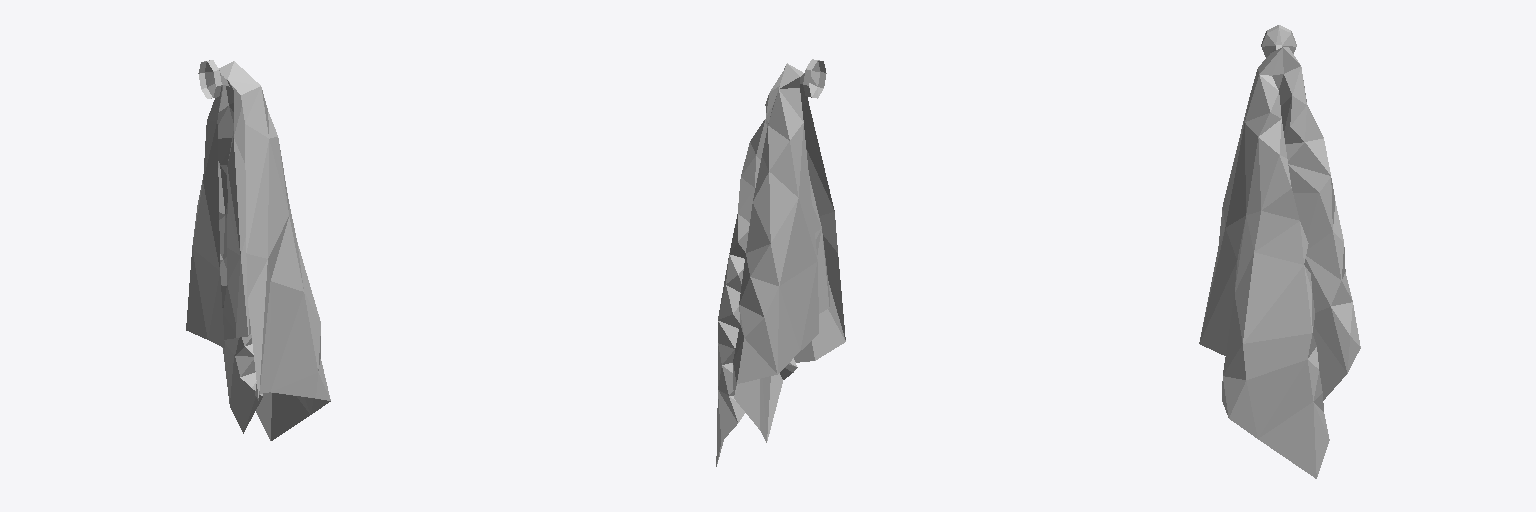
File: Towel_b.obj
3 views of the same model, side by side, from view 1: azimuth 30°, elevation 25°; view 2: azimuth 150°, elevation 25°; view 3: azimuth 270°, elevation 25° (orthographic).
Visible parts, largest first — view 1: Towel_b_Plane.016; view 2: Towel_b_Plane.016; view 3: Towel_b_Plane.016.
Boxes of the visible parts, x1,y1,x2,y2 form: Towel_b_Plane.016: [186, 60, 330, 440]; Towel_b_Plane.016: [716, 59, 845, 466]; Towel_b_Plane.016: [1199, 25, 1360, 478].
Size of the model in its own units: 0.2357 by 0.9461 by 0.3347.